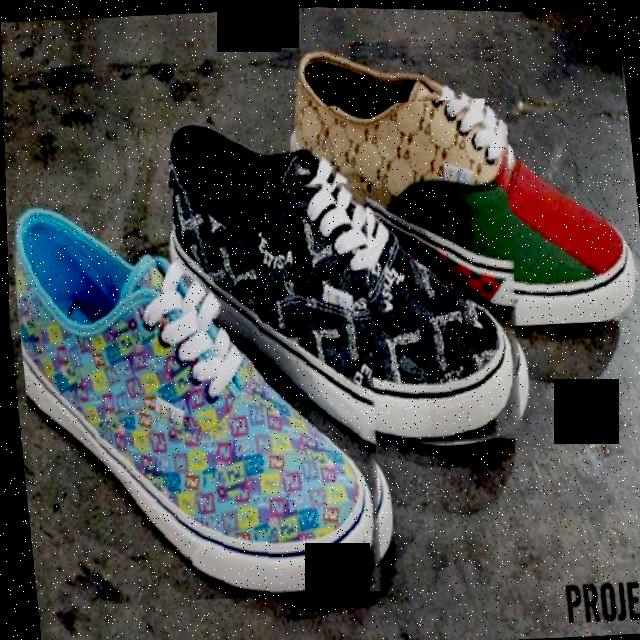shoe: (4, 166, 403, 613), (151, 89, 539, 469), (279, 22, 640, 340)
